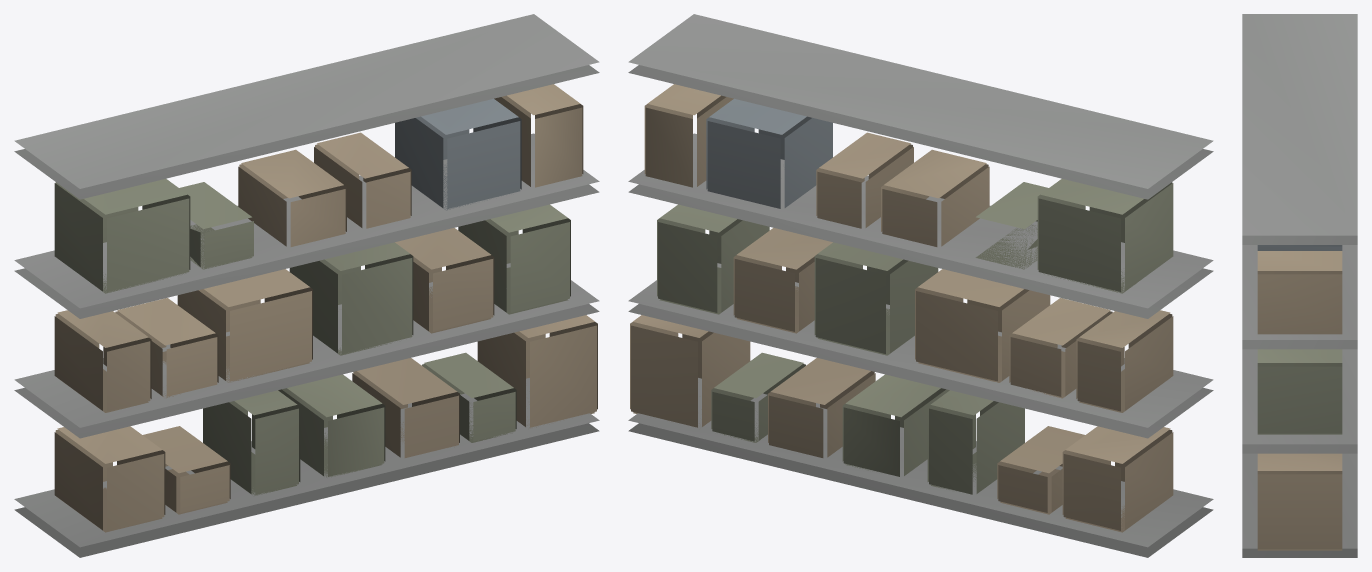
Rendered from int_shelving.lod.glb.
The picture shows the model from 3 angles, left to right: view 1: azimuth 30°, elevation 25°; view 2: azimuth 150°, elevation 25°; view 3: azimuth 270°, elevation 25°; orthographic projection. The views are drawn at different scales.
Parts seen in each view (by area): view 1: int_shelving; view 2: int_shelving; view 3: int_shelving.
Part boxes in pixels (box(x1,y1,x2,y2)): int_shelving: box(14, 14, 599, 557); int_shelving: box(628, 14, 1213, 557); int_shelving: box(1242, 14, 1357, 557).
Bounding box in the file's own units: 4.15 × 2.78 × 0.9.
